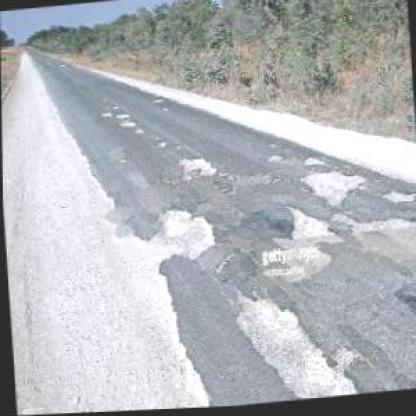pothole: (229, 283, 359, 406), (146, 201, 215, 264), (298, 165, 366, 209), (282, 200, 334, 242), (175, 154, 216, 183), (376, 189, 416, 208), (115, 116, 135, 132), (98, 109, 112, 118)
